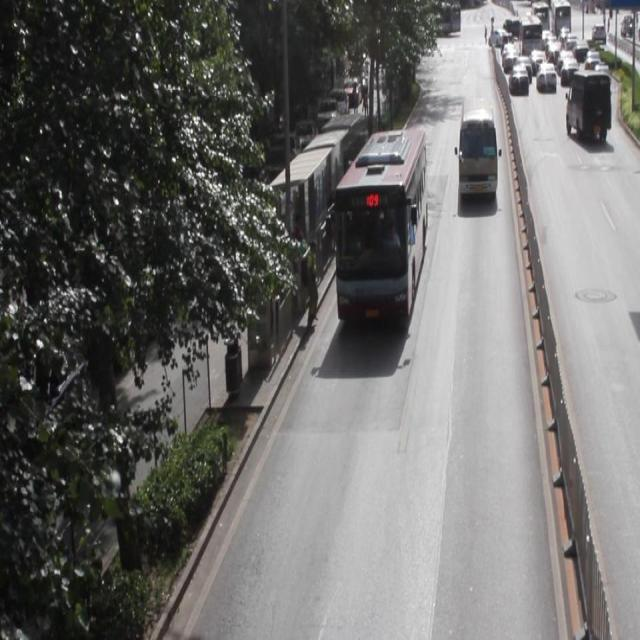BigCar: (341, 122, 430, 333), (458, 100, 506, 208), (570, 67, 611, 151), (513, 11, 542, 57), (547, 0, 572, 37)
car: (508, 63, 535, 108), (488, 16, 517, 56), (586, 18, 611, 57), (559, 52, 583, 84), (538, 67, 558, 101)
